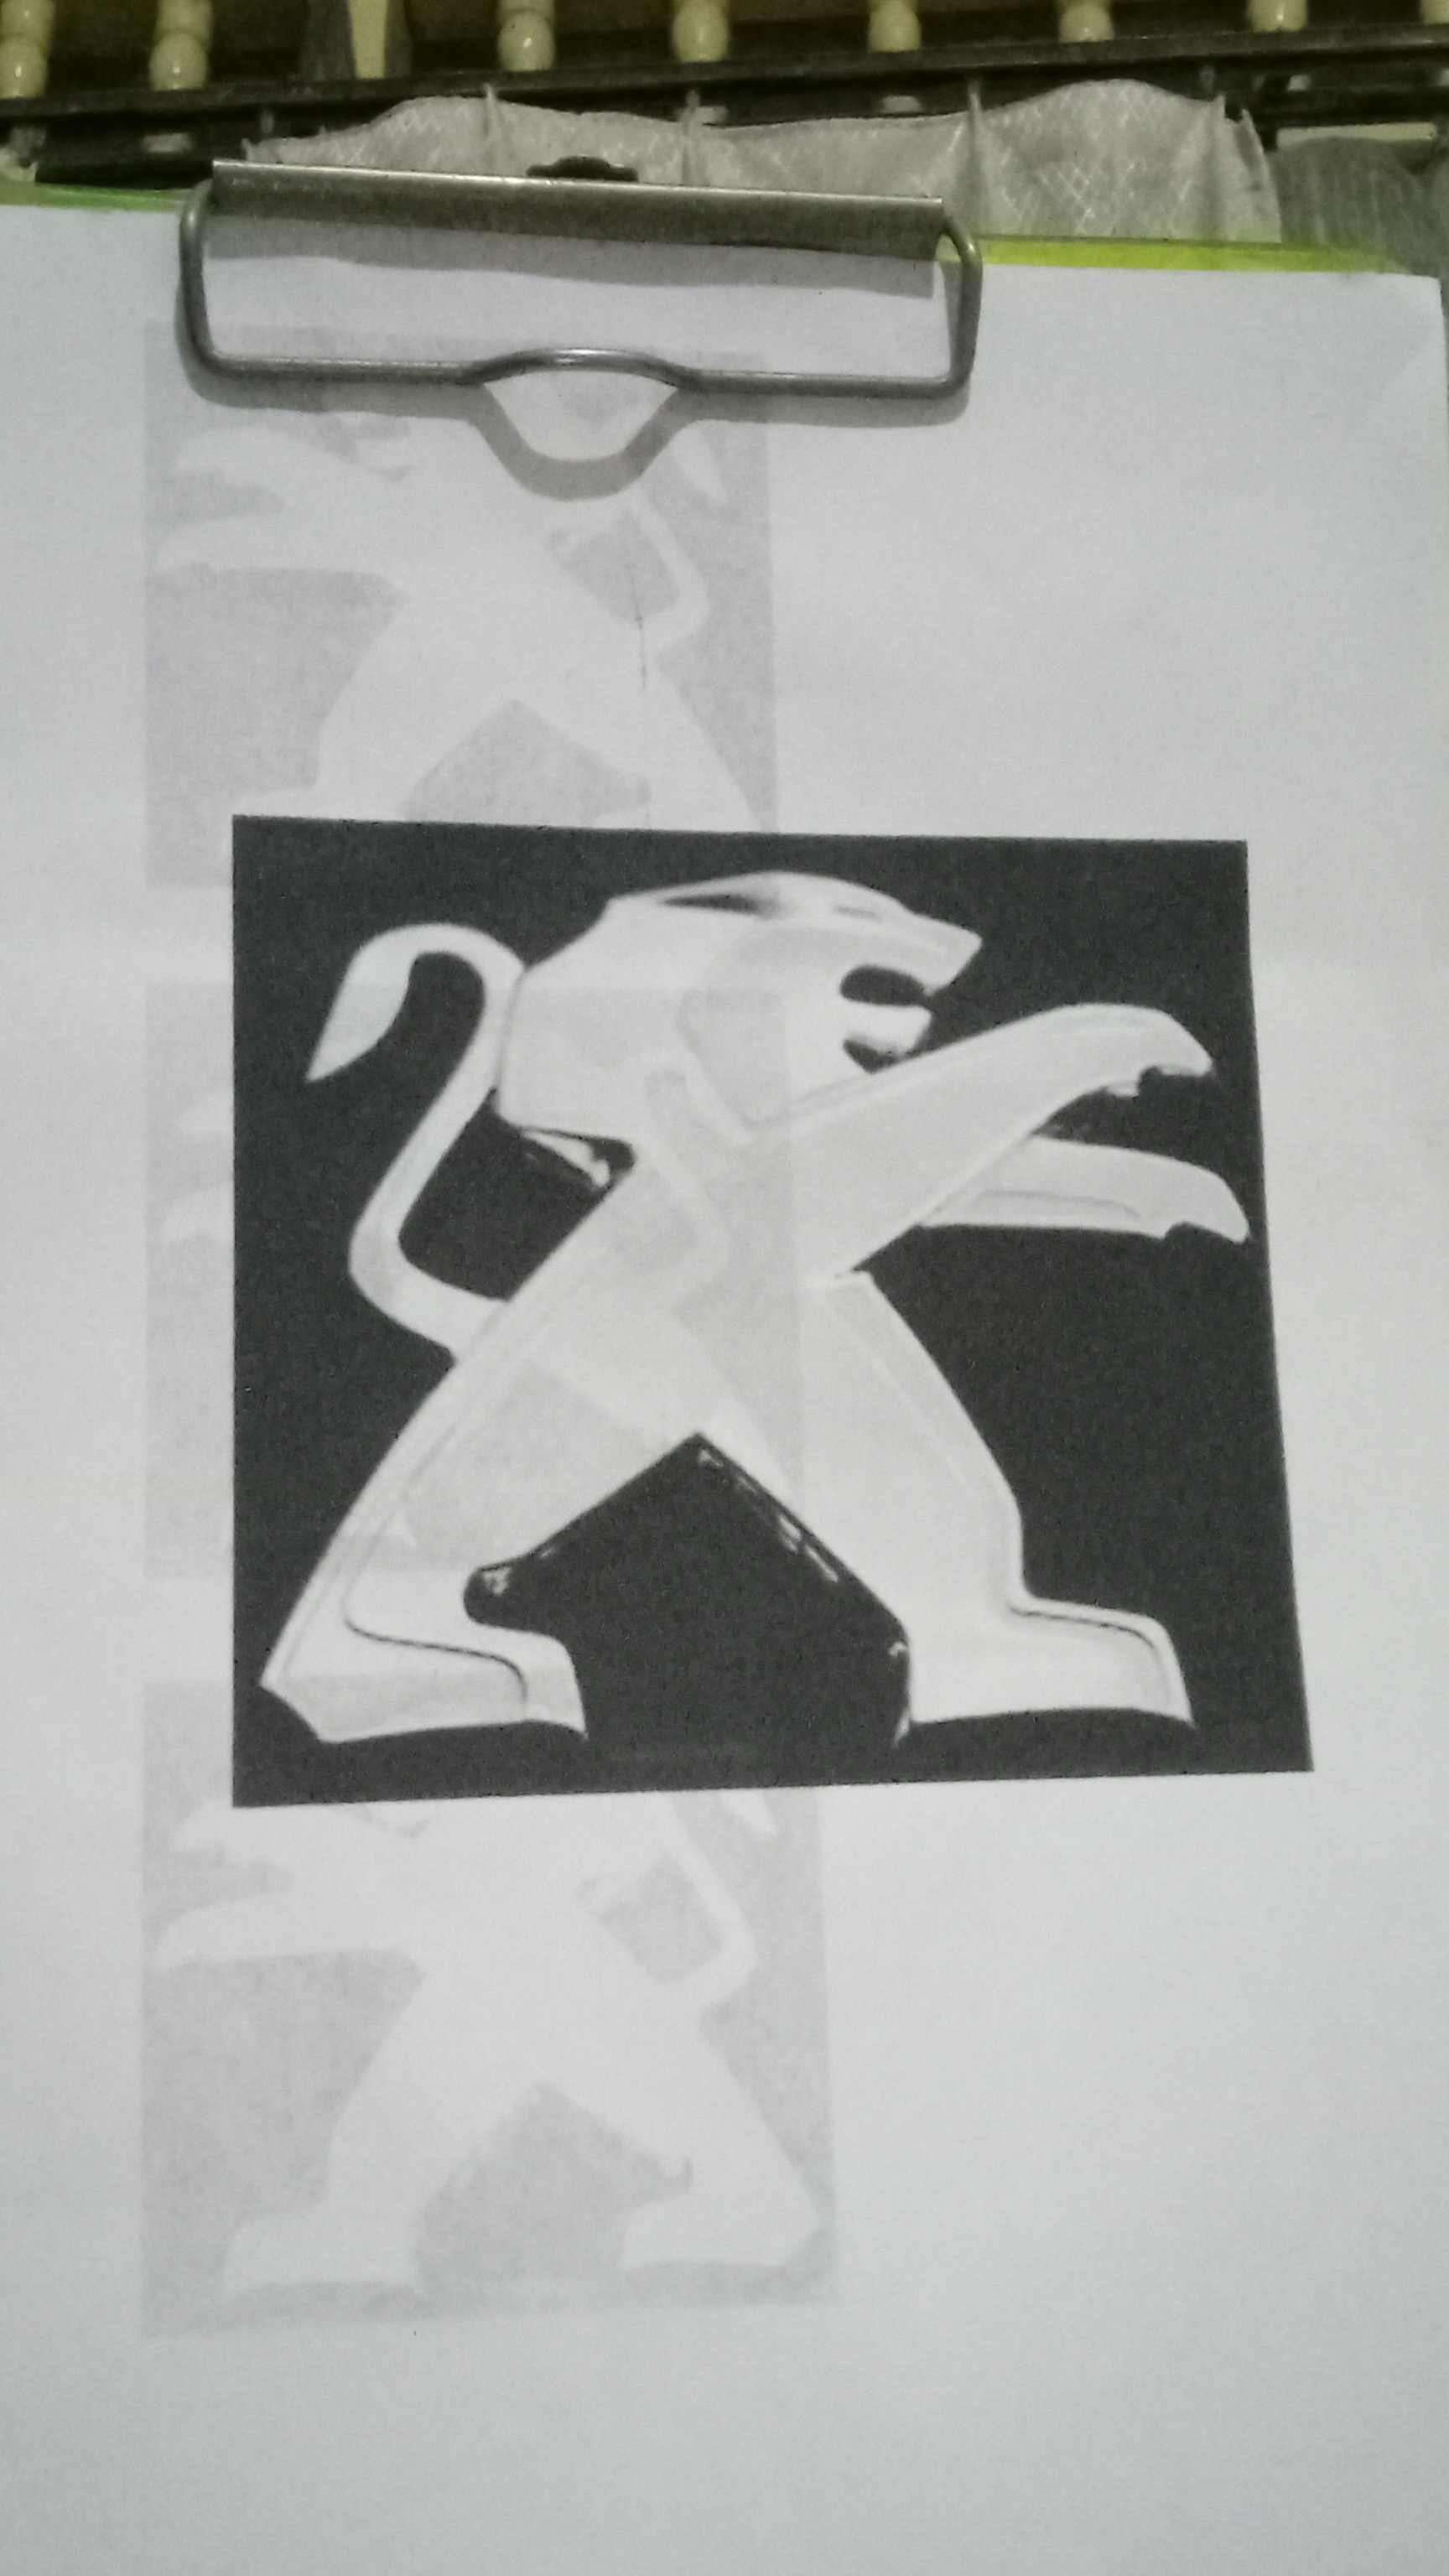Peugeot: (228, 826, 1284, 1775)
